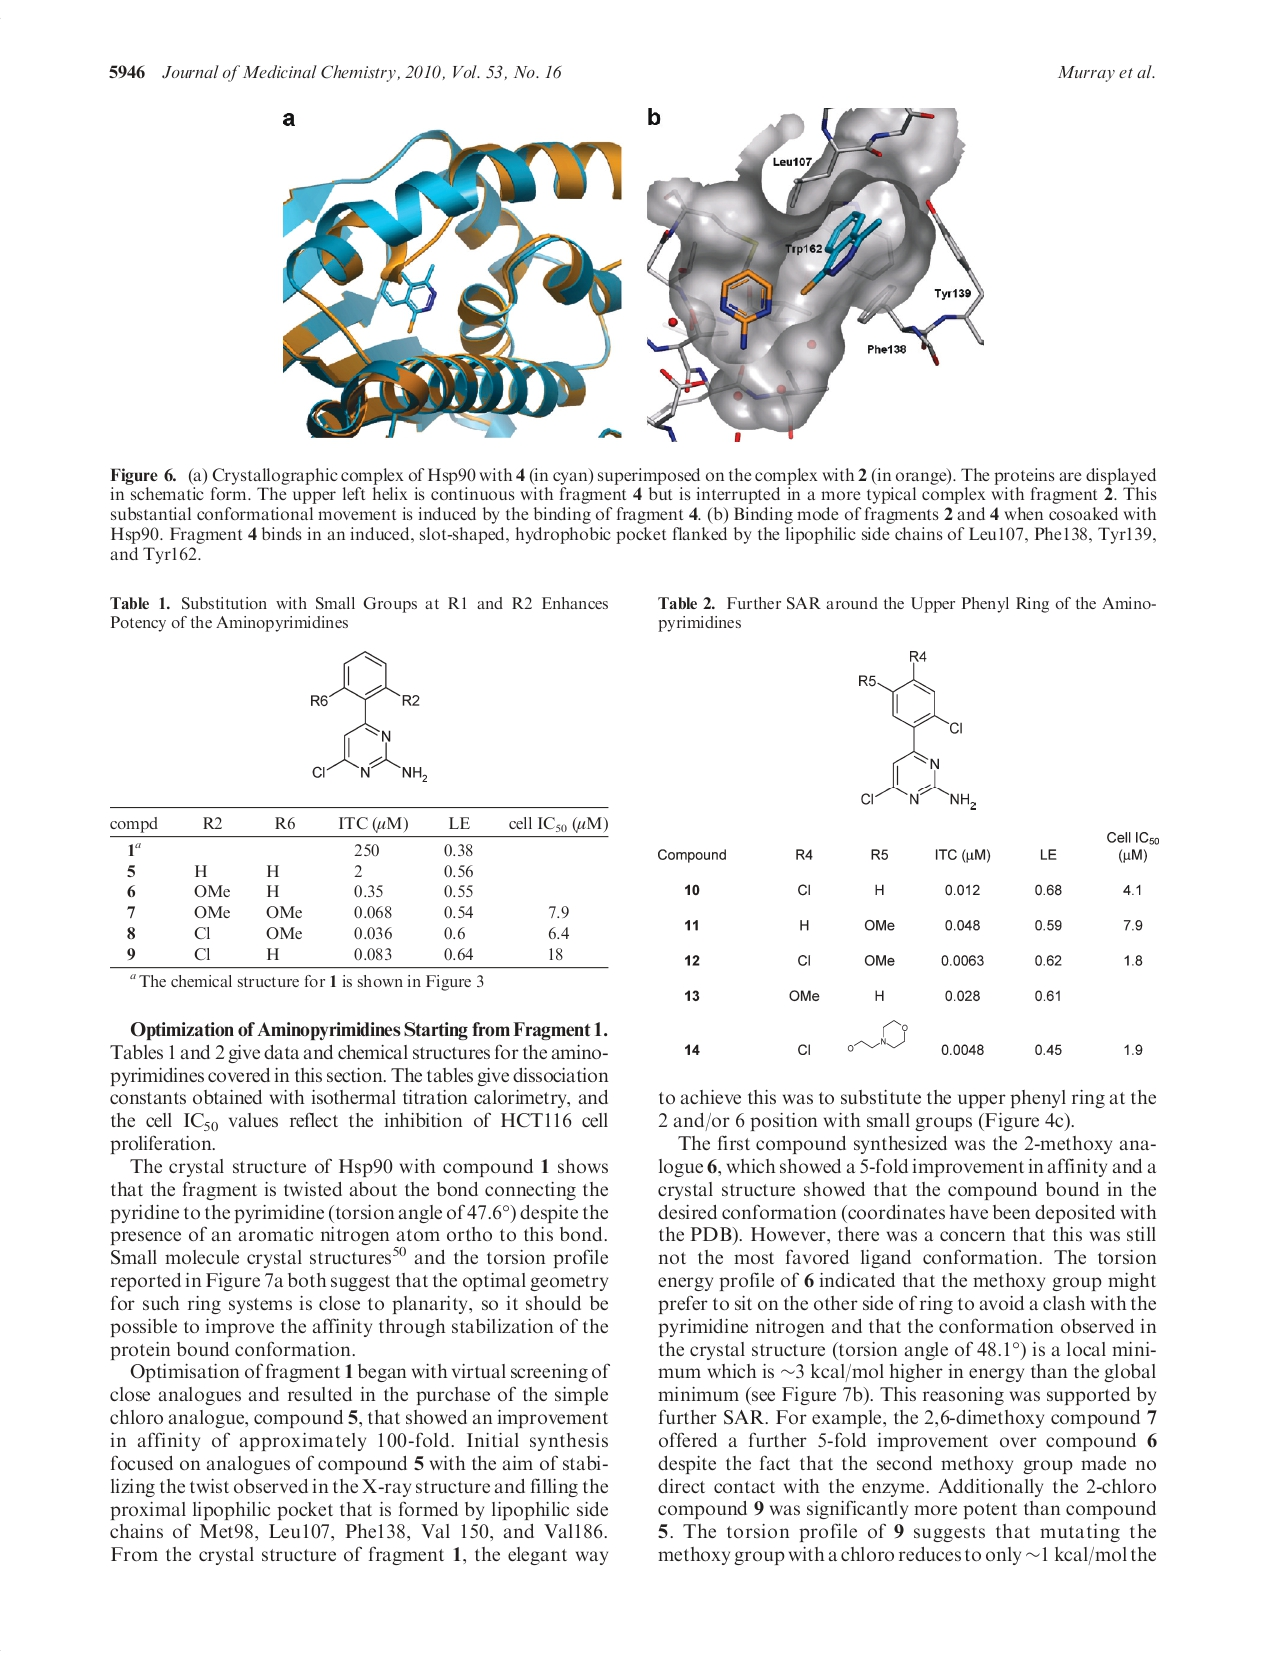exist_molecular: (850, 644, 983, 817), (302, 649, 430, 785)
